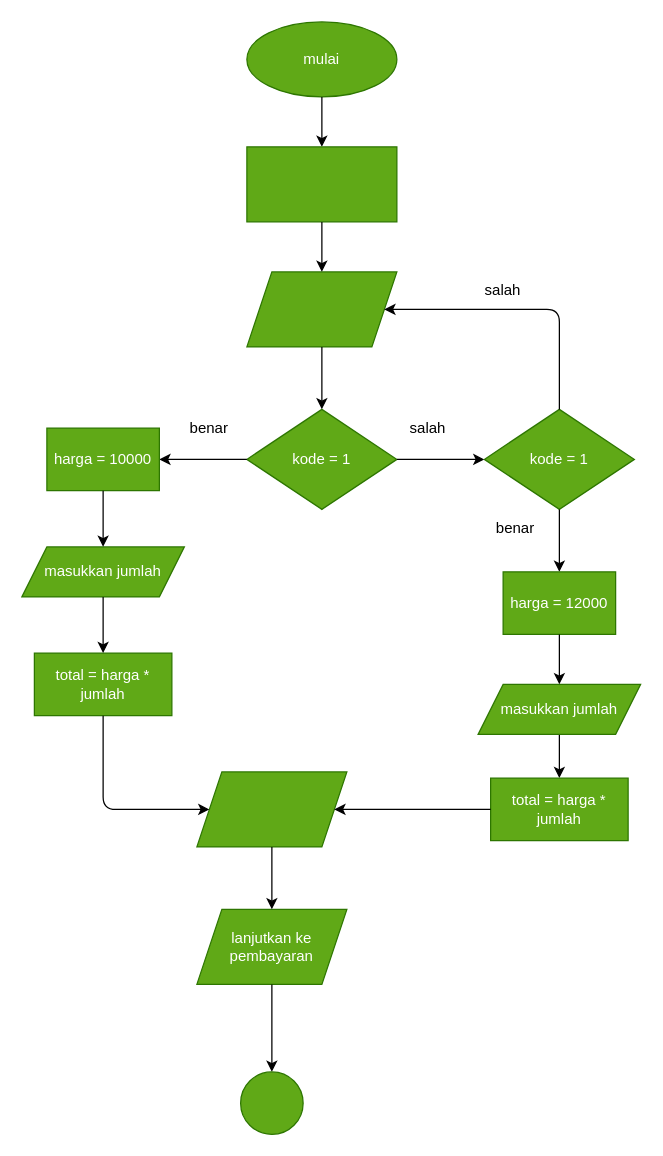
Some shapes in this 663 by 1156 pixel diagram are drawn without their labels. Each missing label, with the centre of its shape:
"masukkan kode" goes at (321,309).
"pilih menu makanan" goes at (321,184).
"tampilkan total" goes at (271,809).
